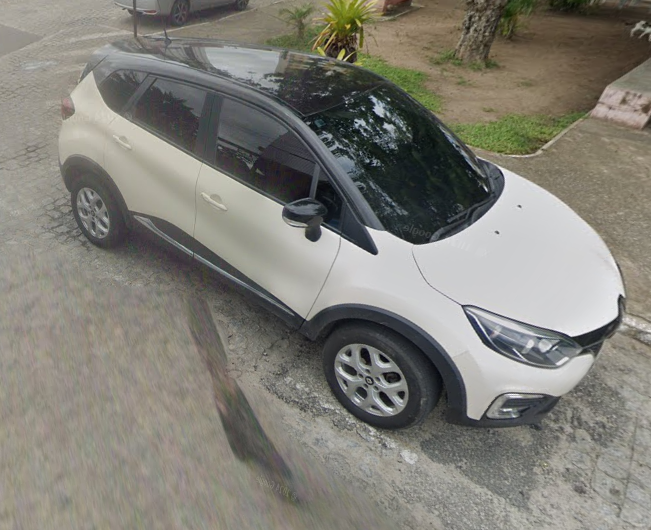car: (54, 1, 631, 433)
